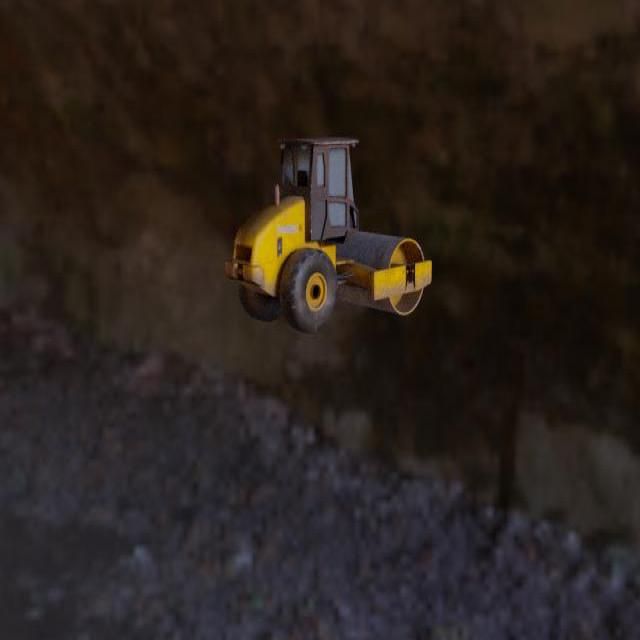Roller: (224, 136, 432, 333)
